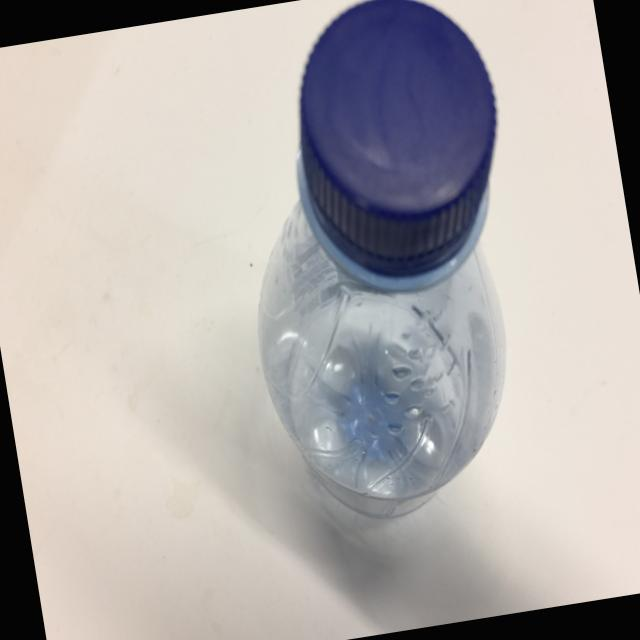Plastic: (248, 0, 511, 572)
